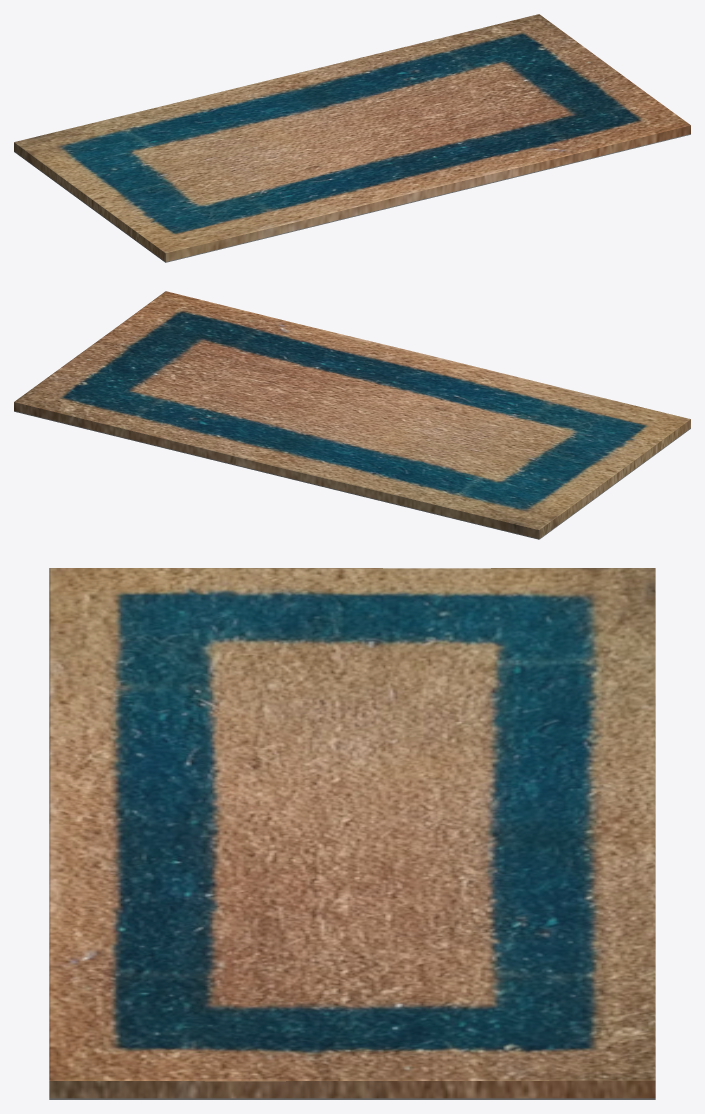
The model's file is doormat.glb.
3 views of the same model, one above another, from view 1: azimuth 30°, elevation 25°; view 2: azimuth 150°, elevation 25°; view 3: azimuth 270°, elevation 25° (orthographic). The views are drawn at different scales.
Visible parts, largest first — view 1: Object_2, Object_3; view 2: Object_2, Object_3; view 3: Object_2, Object_3.
Part boxes in pixels (bbox=[...]): Object_2: bbox=[14, 14, 690, 261]; Object_3: bbox=[14, 134, 690, 262]; Object_2: bbox=[14, 291, 690, 538]; Object_3: bbox=[14, 411, 690, 539]; Object_2: bbox=[49, 568, 655, 1098]; Object_3: bbox=[49, 1098, 655, 1099].
Bounding box in the file's own units: 60 × 1.09 × 30.
2 materials, 1 textured.
